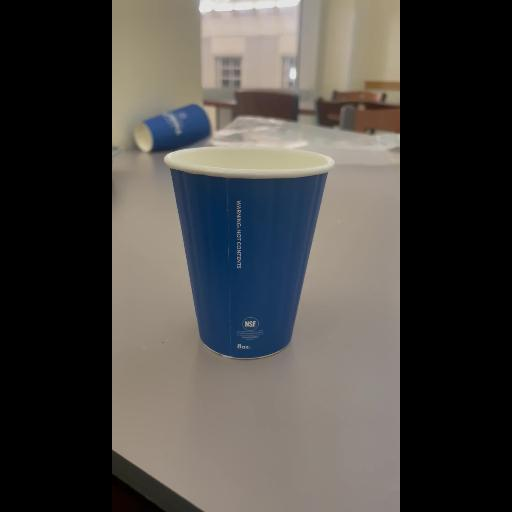lp_paper_cup: (157, 138, 339, 366)
